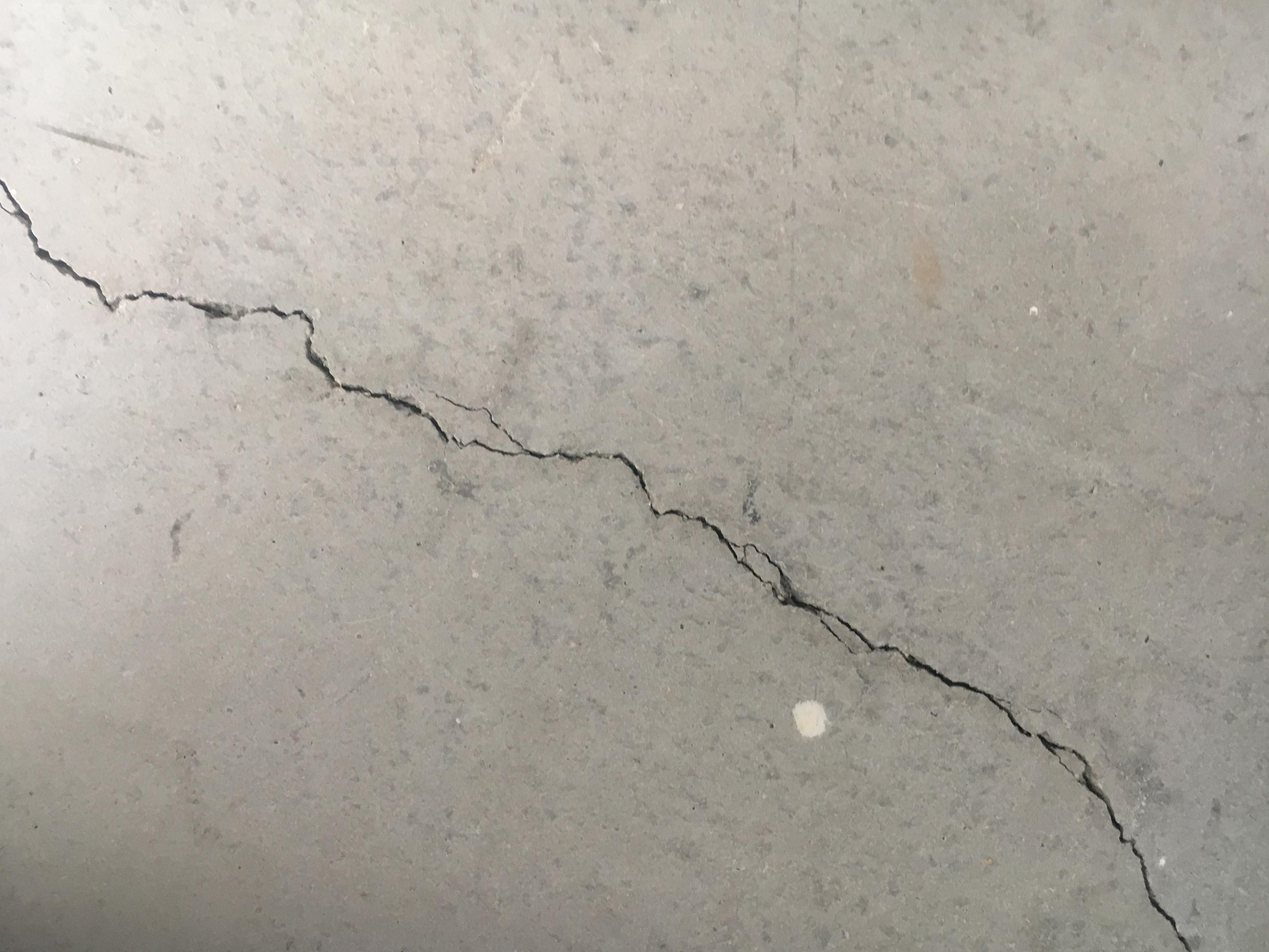Diagonal Crack: (4, 172, 1195, 948)
